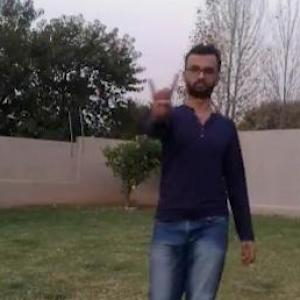takeoff-hand: (143, 66, 184, 108)
